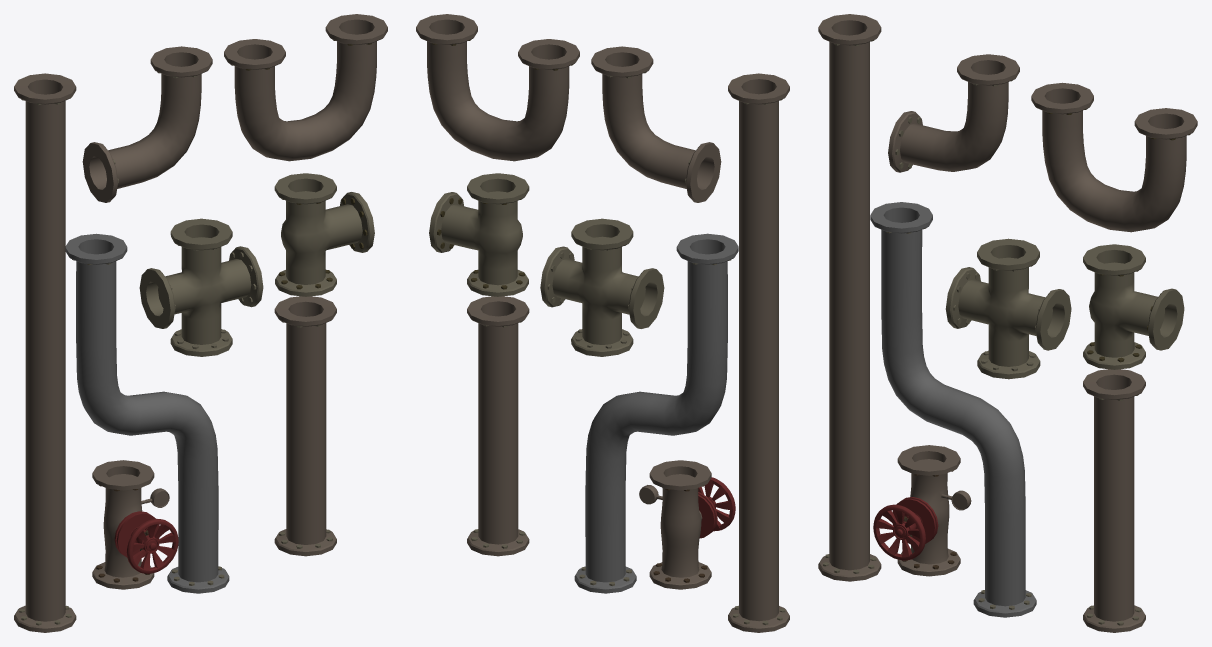
The model's file is parts.gltf.
The picture shows the model from 3 angles, left to right: view 1: azimuth 30°, elevation 25°; view 2: azimuth 150°, elevation 25°; view 3: azimuth 330°, elevation 25°; orthographic projection.
Parts seen in each view (by area): view 1: modular_industrial_pipes_01_pipe02, modular_industrial_pipes_01_pipe03, modular_industrial_pipes_01_pipe05, modular_industrial_pipes_01_pipe01, modular_industrial_pipes_01_pipe07, modular_industrial_pipes_01_pipe04, modular_industrial_pipes_01_pipe06, modular_industrial_pipes_01_pipe08; view 2: modular_industrial_pipes_01_pipe02, modular_industrial_pipes_01_pipe03, modular_industrial_pipes_01_pipe05, modular_industrial_pipes_01_pipe01, modular_industrial_pipes_01_pipe07, modular_industrial_pipes_01_pipe04, modular_industrial_pipes_01_pipe06, modular_industrial_pipes_01_pipe08; view 3: modular_industrial_pipes_01_pipe02, modular_industrial_pipes_01_pipe03, modular_industrial_pipes_01_pipe05, modular_industrial_pipes_01_pipe01, modular_industrial_pipes_01_pipe07, modular_industrial_pipes_01_pipe06, modular_industrial_pipes_01_pipe04, modular_industrial_pipes_01_pipe08.
Boxes of the visible parts, x1,y1,x2,y2 form: modular_industrial_pipes_01_pipe02: [14, 73, 76, 632]; modular_industrial_pipes_01_pipe03: [65, 233, 229, 593]; modular_industrial_pipes_01_pipe05: [224, 14, 387, 161]; modular_industrial_pipes_01_pipe01: [274, 296, 336, 556]; modular_industrial_pipes_01_pipe07: [139, 218, 263, 356]; modular_industrial_pipes_01_pipe04: [82, 46, 212, 202]; modular_industrial_pipes_01_pipe06: [274, 173, 374, 296]; modular_industrial_pipes_01_pipe08: [92, 460, 178, 589]; modular_industrial_pipes_01_pipe02: [728, 73, 789, 632]; modular_industrial_pipes_01_pipe03: [574, 233, 738, 593]; modular_industrial_pipes_01_pipe05: [416, 14, 579, 161]; modular_industrial_pipes_01_pipe01: [467, 296, 529, 556]; modular_industrial_pipes_01_pipe07: [540, 218, 664, 356]; modular_industrial_pipes_01_pipe04: [591, 46, 721, 202]; modular_industrial_pipes_01_pipe06: [429, 173, 529, 296]; modular_industrial_pipes_01_pipe08: [639, 460, 735, 589]; modular_industrial_pipes_01_pipe02: [818, 14, 881, 581]; modular_industrial_pipes_01_pipe03: [870, 202, 1036, 617]; modular_industrial_pipes_01_pipe05: [1031, 82, 1197, 232]; modular_industrial_pipes_01_pipe01: [1083, 369, 1145, 632]; modular_industrial_pipes_01_pipe07: [945, 238, 1071, 379]; modular_industrial_pipes_01_pipe06: [1083, 244, 1184, 369]; modular_industrial_pipes_01_pipe04: [888, 54, 1019, 172]; modular_industrial_pipes_01_pipe08: [873, 445, 971, 576].
Size of the model in its own units: 1.4 by 1.95 by 0.3076.
